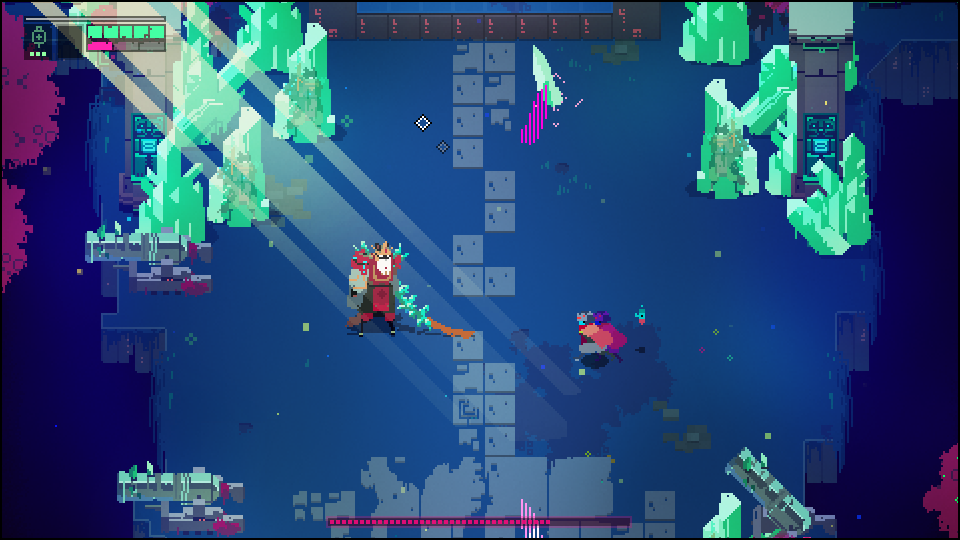hanged_crys: (518, 82, 549, 149), (530, 42, 561, 109)
hanged_man: (342, 237, 450, 342)
player: (573, 311, 616, 368)
